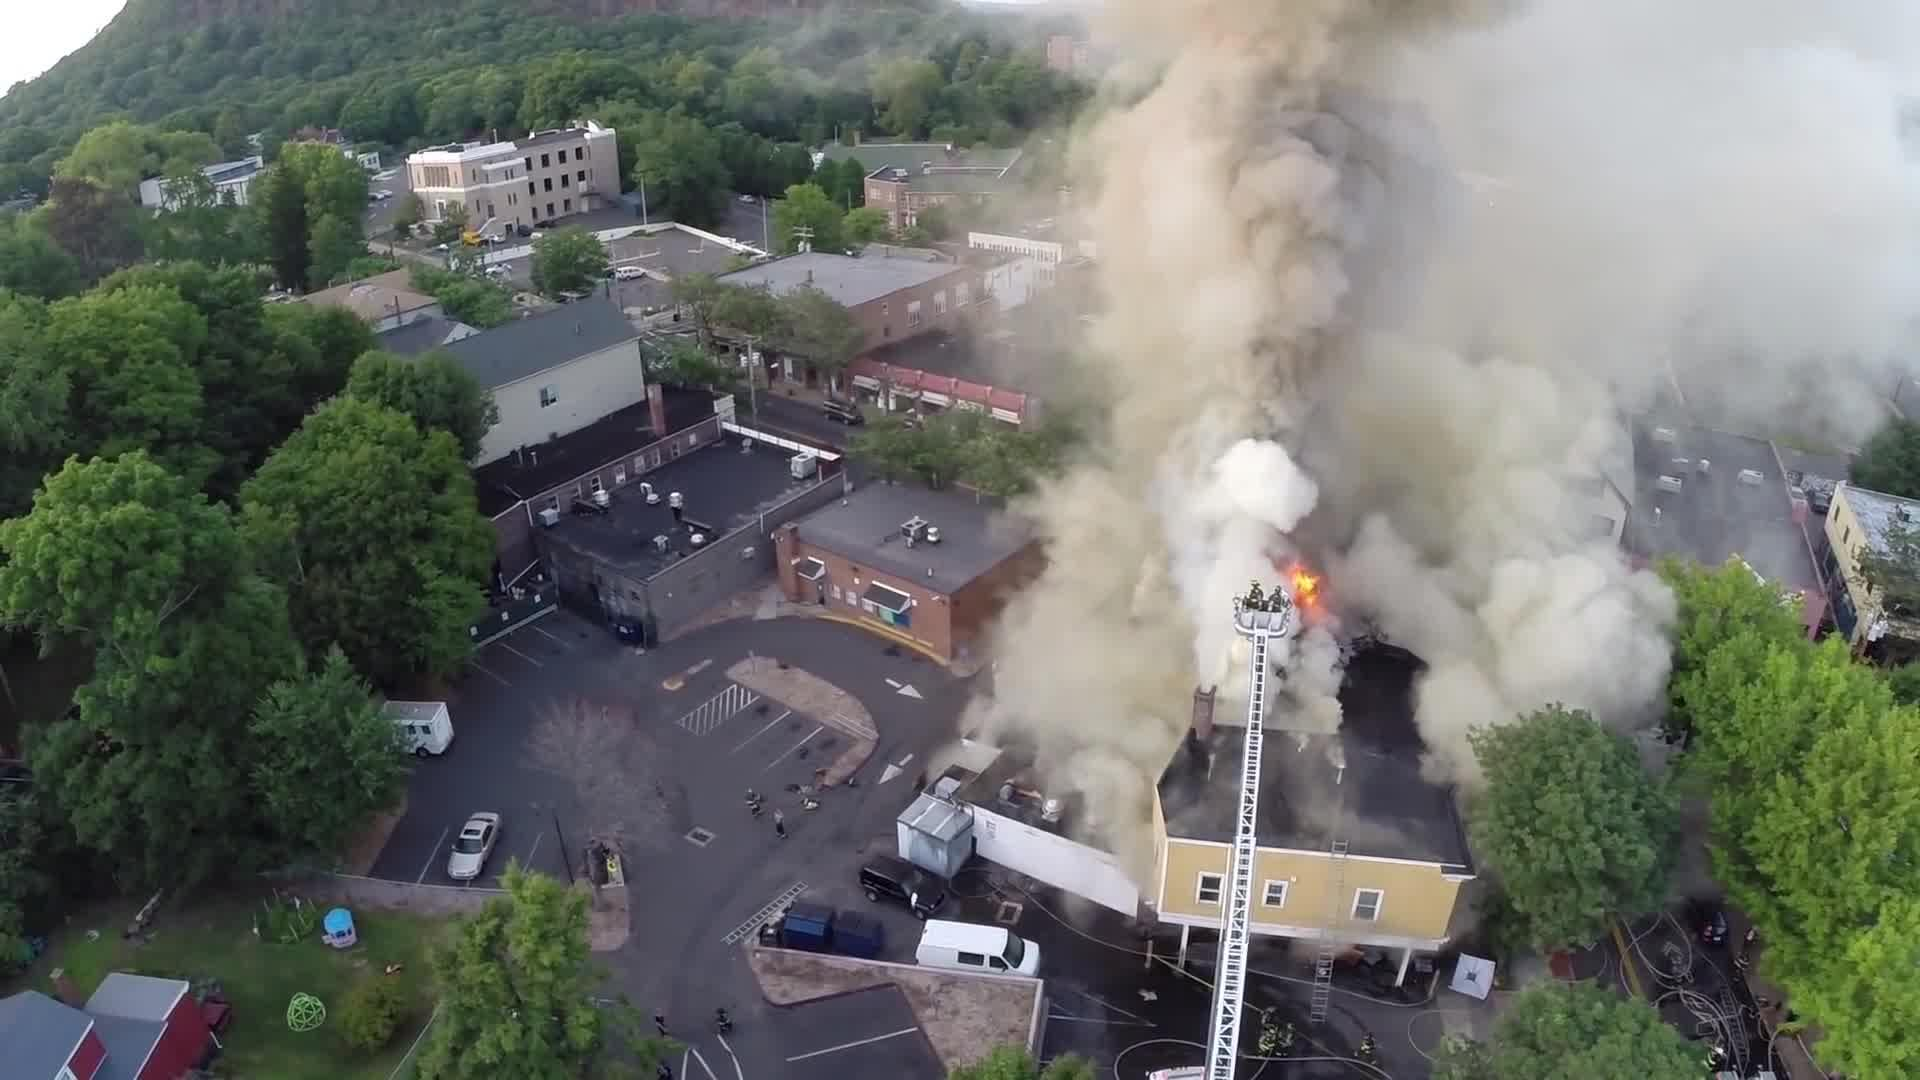smoke: (1079, 21, 1613, 696), (1613, 15, 1908, 400)
